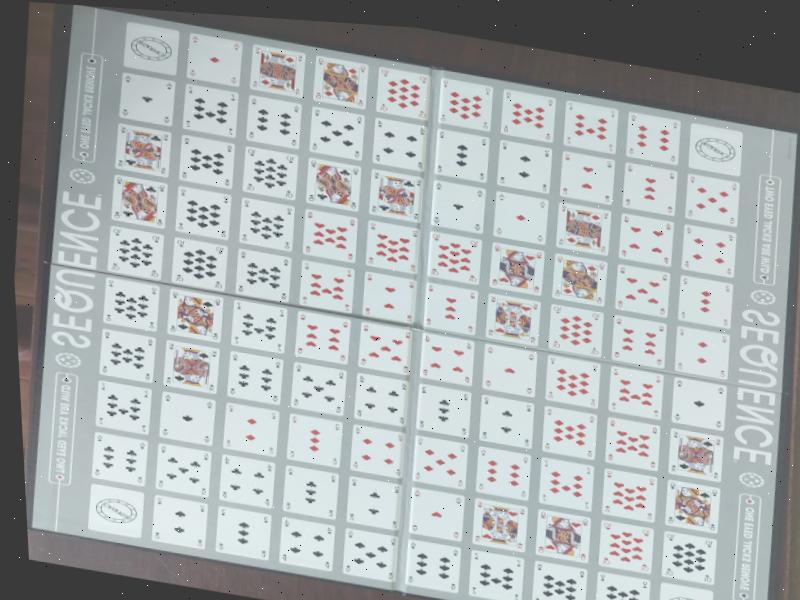Board: (24, 4, 800, 600)
